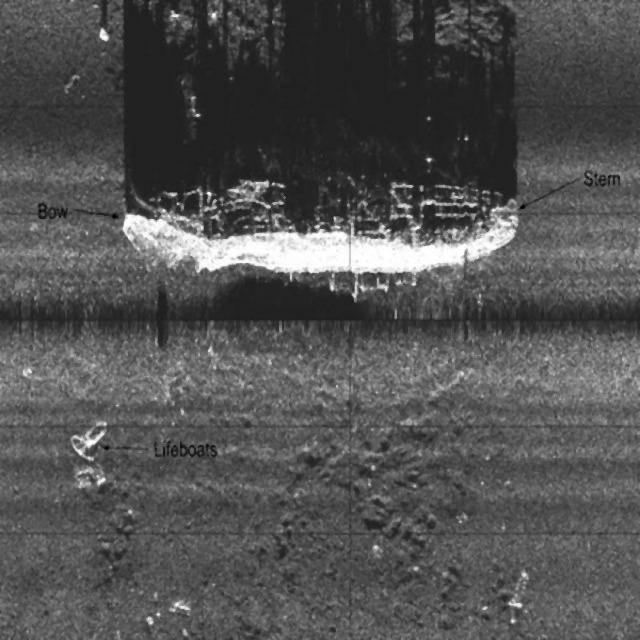Ship: (118, 149, 525, 299)
